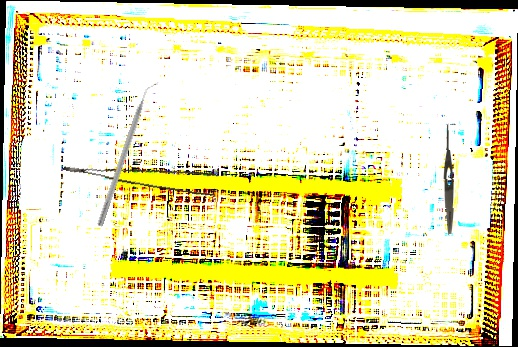Chopper: (96, 78, 161, 230)
Dressing Forceps: (441, 123, 456, 235)
Tissue Forceps: (63, 140, 219, 205)
